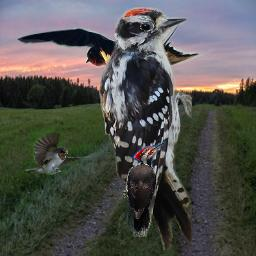Swallow: (13, 18, 234, 133), (25, 130, 110, 175)
Woodpecker: (96, 7, 192, 250), (118, 141, 168, 237)
